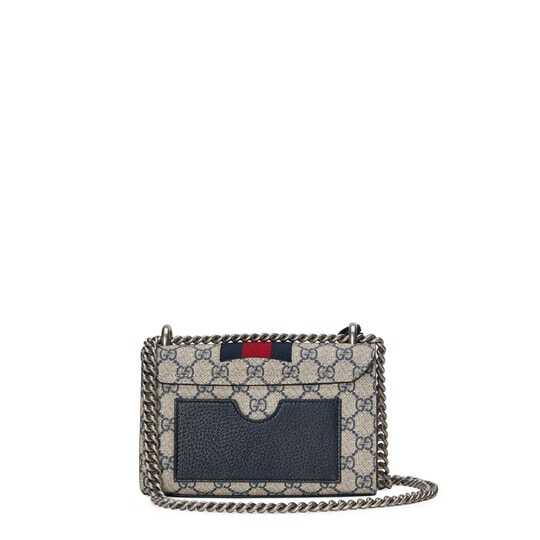Gucci: (128, 308, 429, 532), (165, 363, 371, 398), (244, 364, 265, 384)
